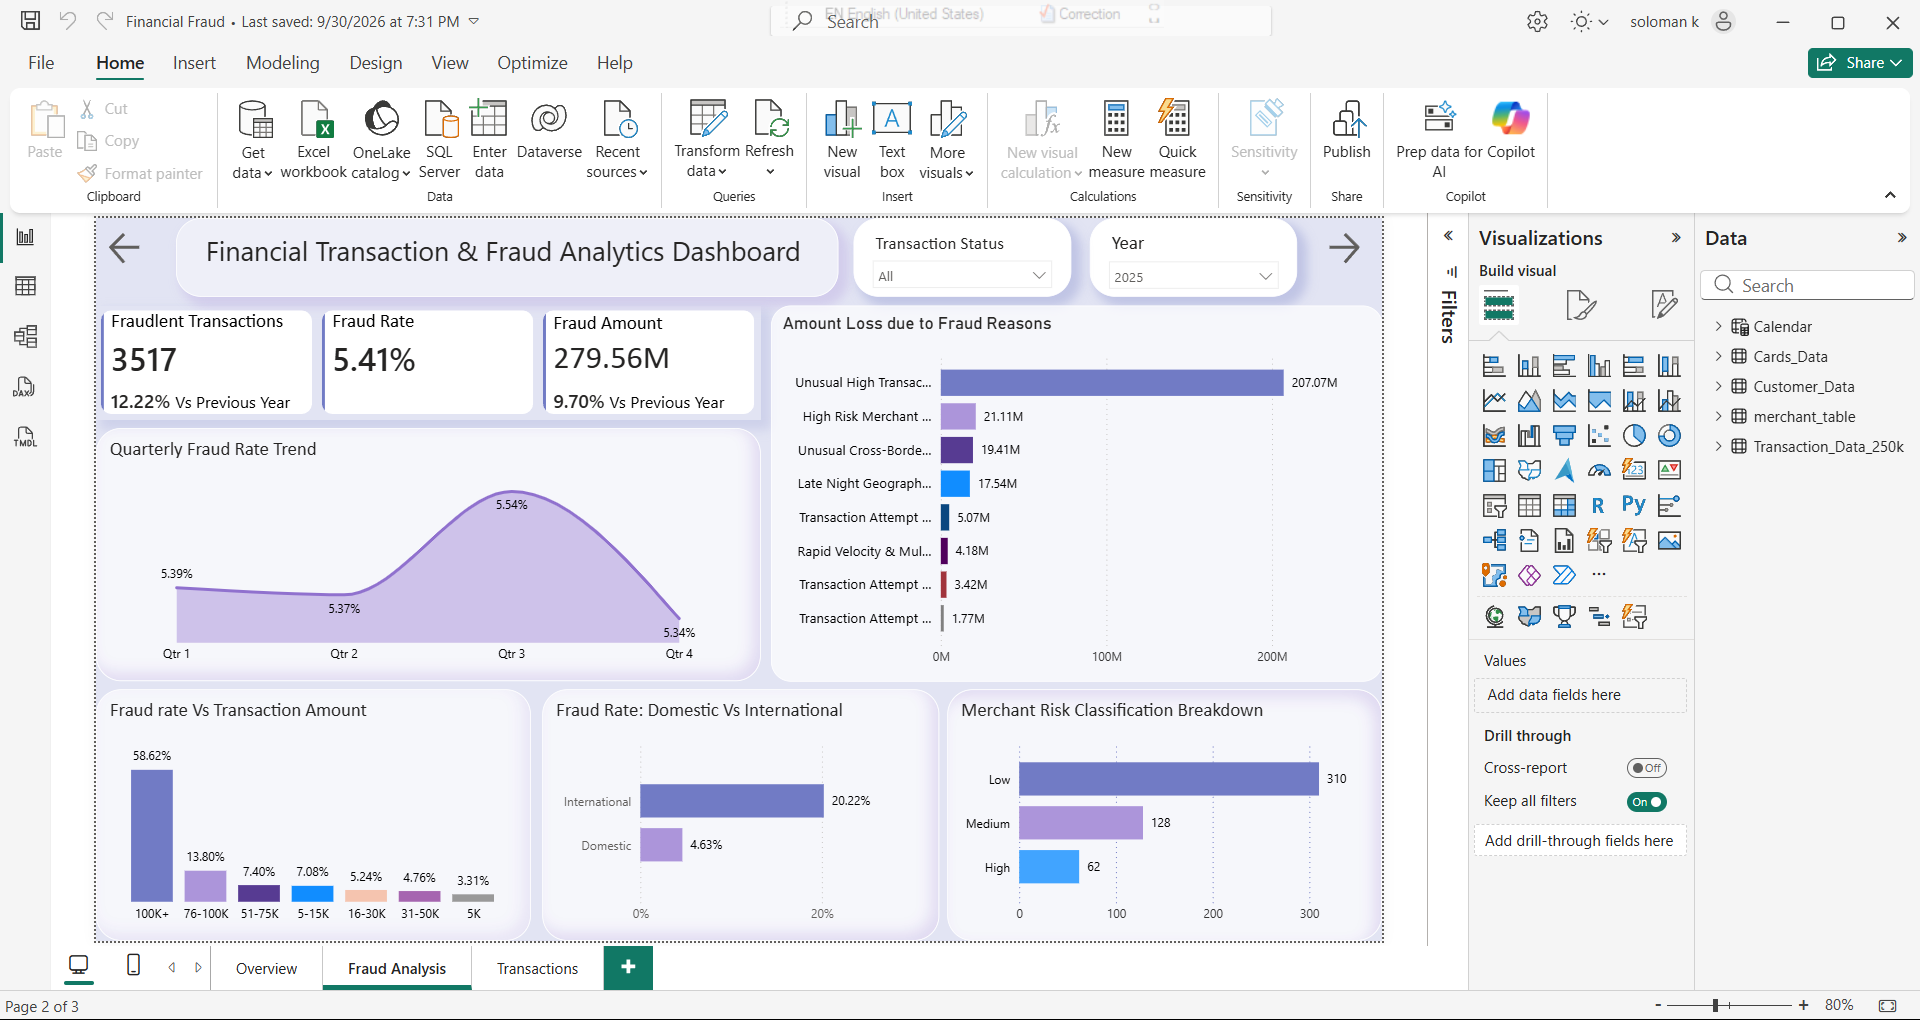

Layout of this report page (visuals, bound fields, positions):
{"tool":"powerbi","page":{"name":"Fraud Analysis","canvas":[1280,720],"ordinal":1},"visuals":[{"type":"textbox","box":[79.5,0,659.1,78.3],"z":0},{"type":"cardVisual","fields":{"Data":["Sum(Transaction_Data_250k.Fraud_Flag)","Transaction_Data_250k.fraud_rate","Transaction_Data_250k.Fraud_Amount"]},"box":[0,86.8,661.6,113.7],"z":1000},{"type":"slicer","title":"Year","fields":{"Values":["Calender.Date.Variation.Date Hierarchy.Year"]},"box":[989.3,0,206.7,78.3],"z":2000},{"type":"slicer","title":"Transaction Status","fields":{"Values":["Transaction_Data_250k.Transaction_Status"]},"box":[753.3,0,216.4,78.3],"z":3000},{"type":"actionButton","box":[1221.6,9.8,47.7,40.4],"z":4000},{"type":"actionButton","box":[8.6,9.8,46.5,40.4],"z":5000},{"type":"barChart","title":"Merchant Risk Classification Breakdown","fields":{"Category":["merchant_table.Merchant_Risk_Level"],"Y":["CountNonNull(merchant_table.Merchant_ID)"]},"box":[847.4,469.6,432.9,250.7],"z":6000},{"type":"columnChart","title":"Fraud rate Vs Transaction Amount","fields":{"Category":["Transaction_Data_250k.Amount_Bucket"],"Y":["Transaction_Data_250k.fraud_rate"]},"box":[0,469.6,432.9,250.7],"z":7000},{"type":"barChart","title":"Amount Loss due to Fraud Reasons","fields":{"Category":["Transaction_Data_250k.Fraud_Reason"],"Y":["Transaction_Data_250k.Total-Amount"]},"box":[671.3,86.8,609,374.2],"z":8000},{"type":"barChart","title":"Fraud Rate: Domestic Vs International","fields":{"Category":["Transaction_Data_250k.Int Vs Dom"],"Y":["Transaction_Data_250k.fraud_rate"]},"box":[443.9,469.6,395,250.7],"z":9000},{"type":"lineChart","title":"Quarterly Fraud Rate Trend","fields":{"Category":["Calender.Date.Variation.Date Hierarchy.Quarter"],"Y":["Transaction_Data_250k.fraud_rate"]},"box":[0,209.1,661.6,251.9],"z":10000}]}

Visuals, with their boxes on the page's 1280x720 design canvas (x1, y1, x2, y2). These are canvas units, not pixel positions in the 1920x1020 screenshot, which may show the page scaled, cropped or inside an application window:
textbox: 80,0,739,78
cardVisual - Sum(Transaction_Data_250k.Fraud_Flag) x Transaction_Data_250k.fraud_rate: 0,87,662,200
"Year" slicer: 989,0,1196,78
"Transaction Status" slicer: 753,0,970,78
actionButton: 1222,10,1269,50
actionButton: 9,10,55,50
"Merchant Risk Classification Breakdown" barChart: 847,470,1280,720
"Fraud rate Vs Transaction Amount" columnChart: 0,470,433,720
"Amount Loss due to Fraud Reasons" barChart: 671,87,1280,461
"Fraud Rate: Domestic Vs International" barChart: 444,470,839,720
"Quarterly Fraud Rate Trend" lineChart: 0,209,662,461
